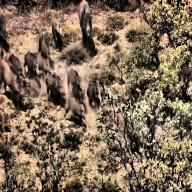boar: (0, 56, 31, 116), (45, 68, 66, 96), (24, 45, 40, 81), (80, 0, 91, 45), (67, 96, 83, 119), (48, 10, 58, 46), (71, 86, 88, 106), (36, 51, 49, 76), (1, 2, 9, 42), (89, 80, 99, 106), (40, 27, 50, 51), (70, 66, 81, 86)
